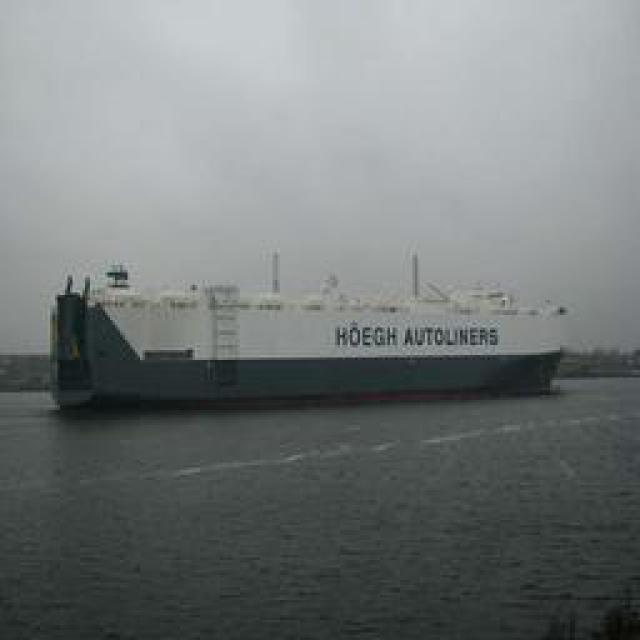Ship: (53, 261, 571, 406)
